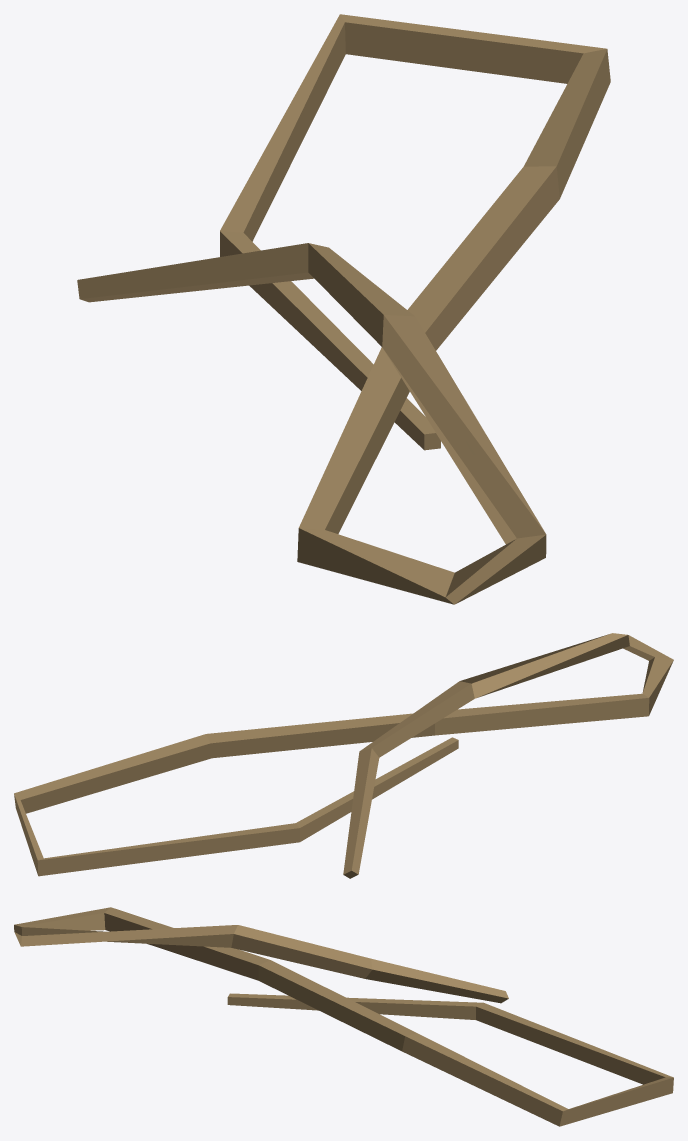
File: Bowstring.glb
The picture shows the model from 3 angles, top to bottom: view 1: azimuth 30°, elevation 25°; view 2: azimuth 150°, elevation 25°; view 3: azimuth 270°, elevation 25°; orthographic projection. The views are drawn at different scales.
Parts seen in each view (by area): view 1: Cube; view 2: Cube; view 3: Cube.
Part boxes in pixels (box(x1,y1,x2,y2)): Cube: box(77, 14, 610, 604); Cube: box(14, 633, 673, 878); Cube: box(14, 907, 673, 1126).
Bounding box in the file's own units: 0.3506 × 0.0759 × 0.5267.
